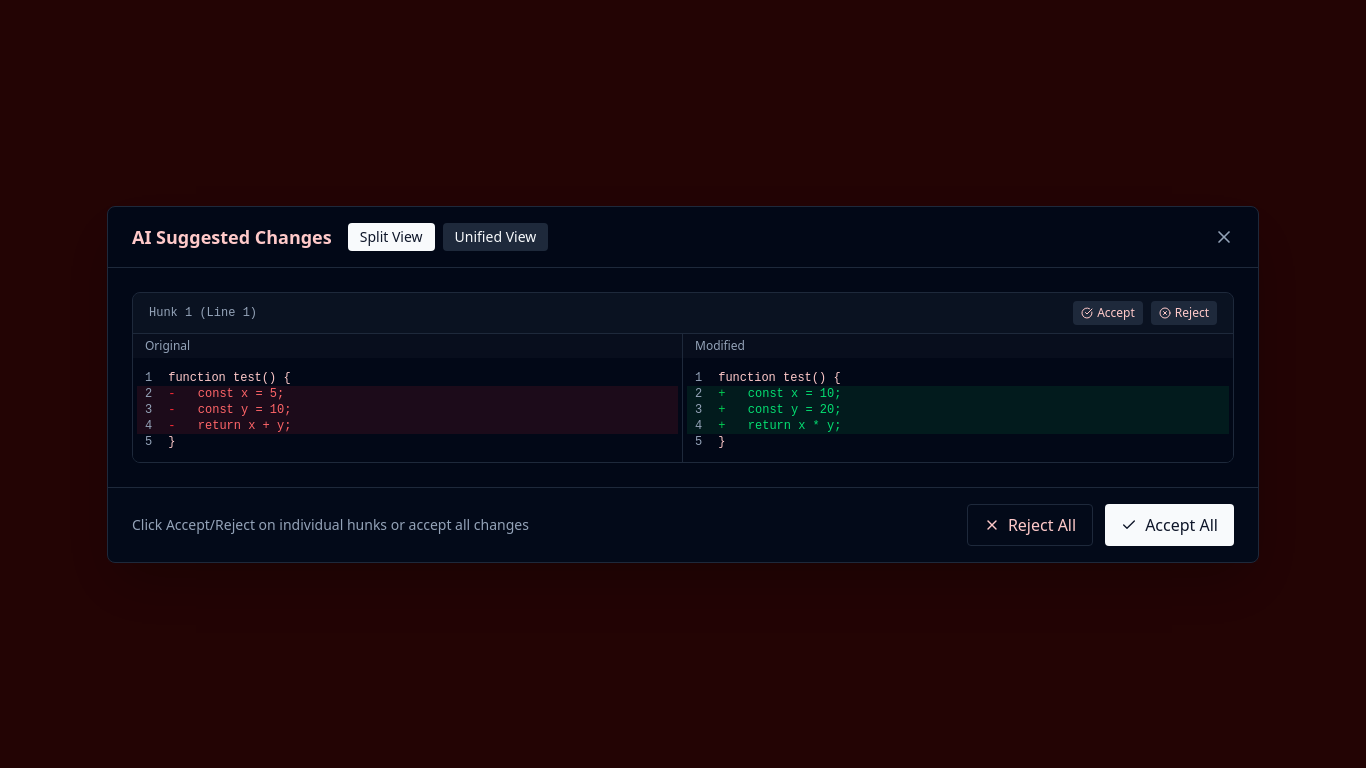
Test: DiffPreview - Per-Hunk Diff Acceptance › toggles hunk acceptance state when clicking accept button
Note: Click accept
Click the button "Accept" at point(1108, 312), box top-left (1073, 300), bottom-right (1143, 324)
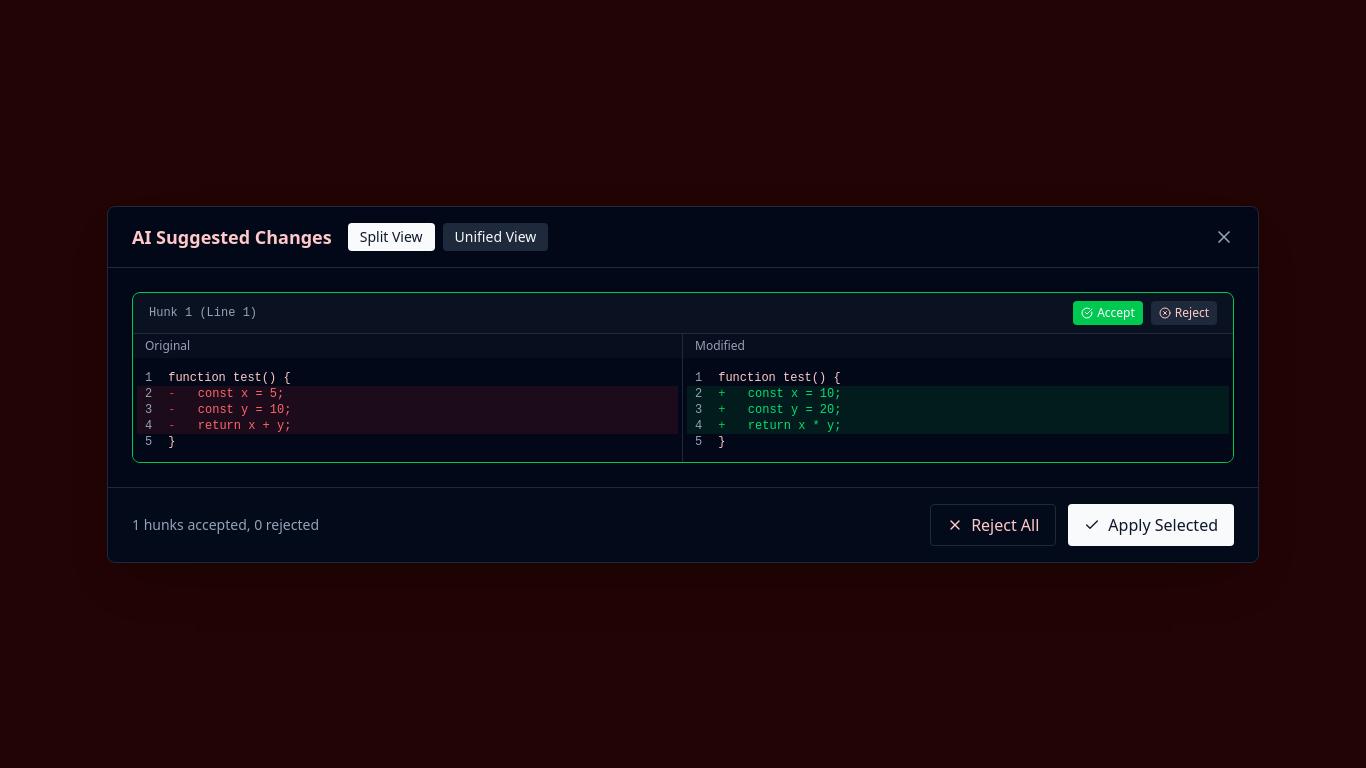
Now the text "1 hunks accepted, 0 rejected" is shown, box top-left (132, 514), bottom-right (319, 534)
